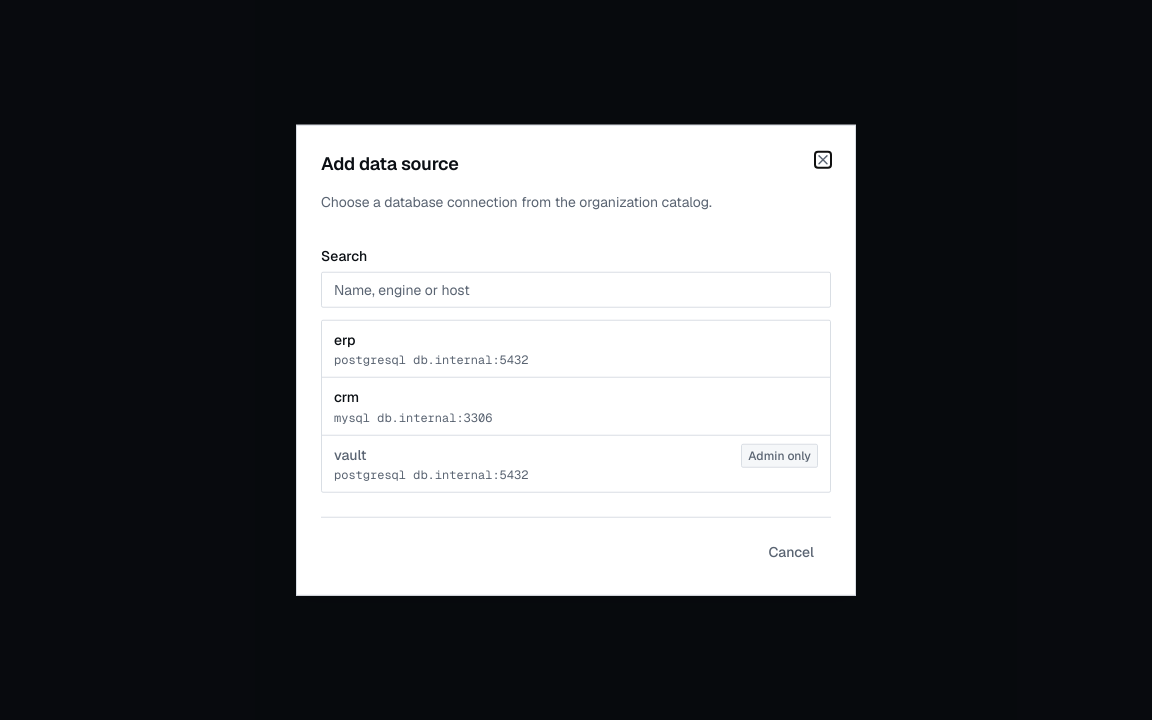
Test case: ScopeDialog › ignores a scope listing that arrives after another connection was chosen
Click the button "erp postgresql db.internal:5432": (370, 360) [322,321,830,378]
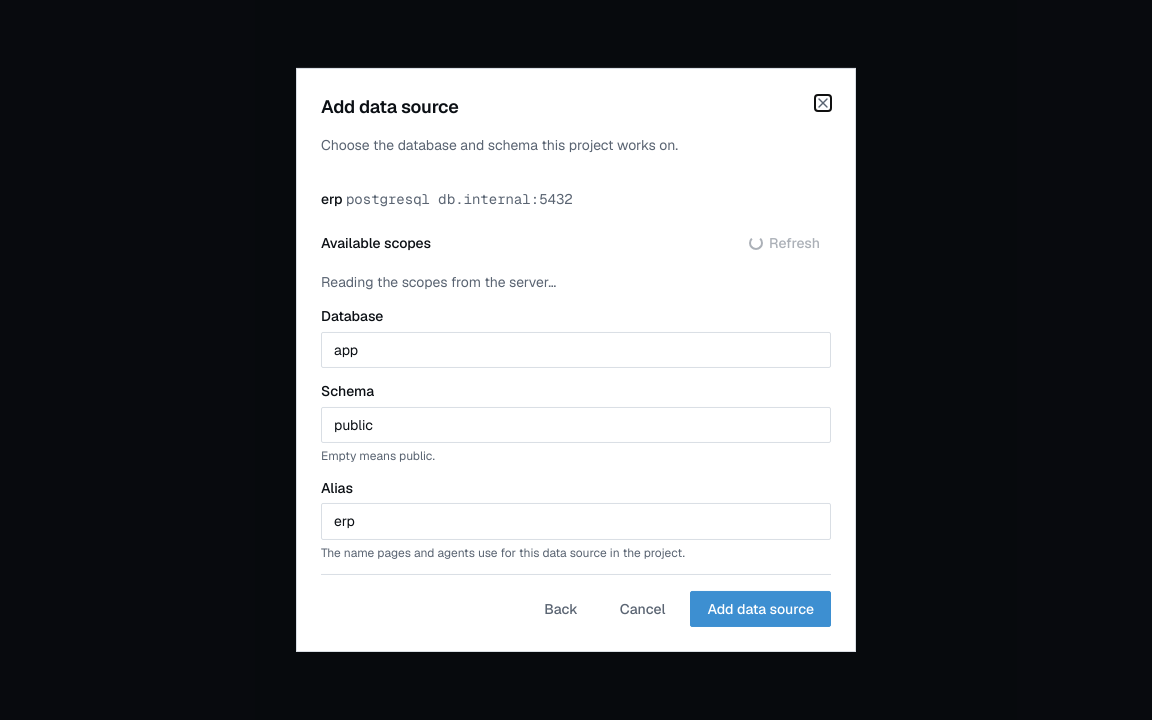
Click the button "Back": (561, 609) [527,591,595,627]
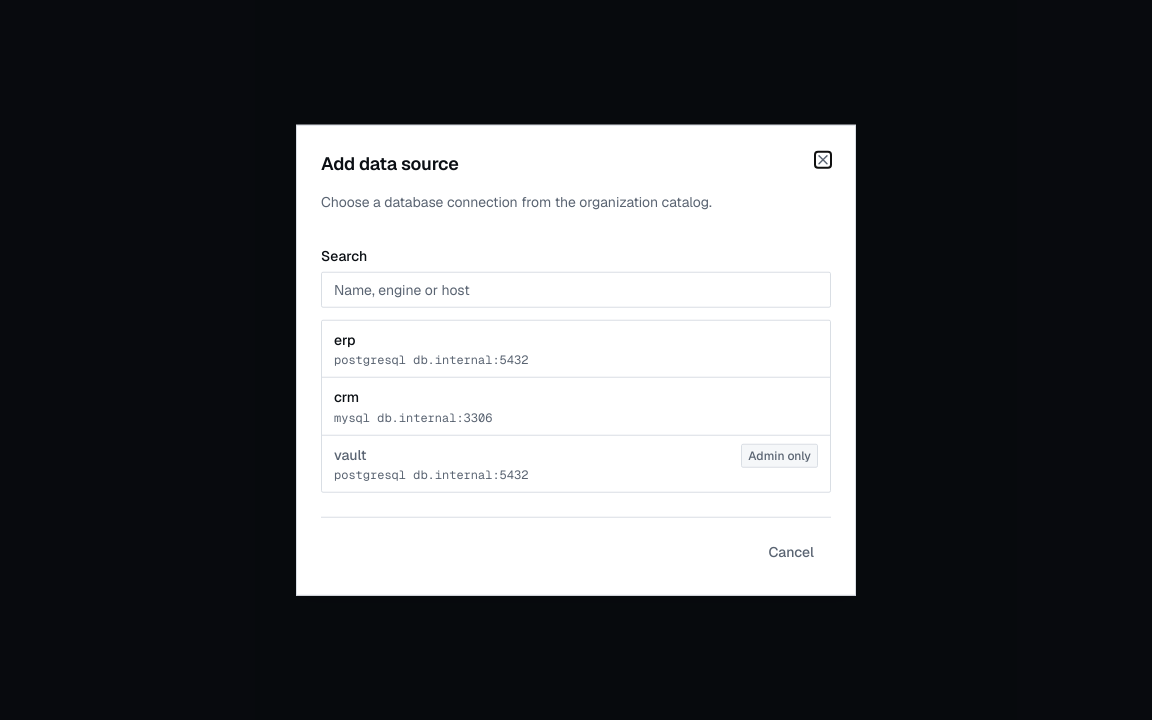
Click the button "crm mysql db.internal:3306": (352, 417) [322,378,830,436]
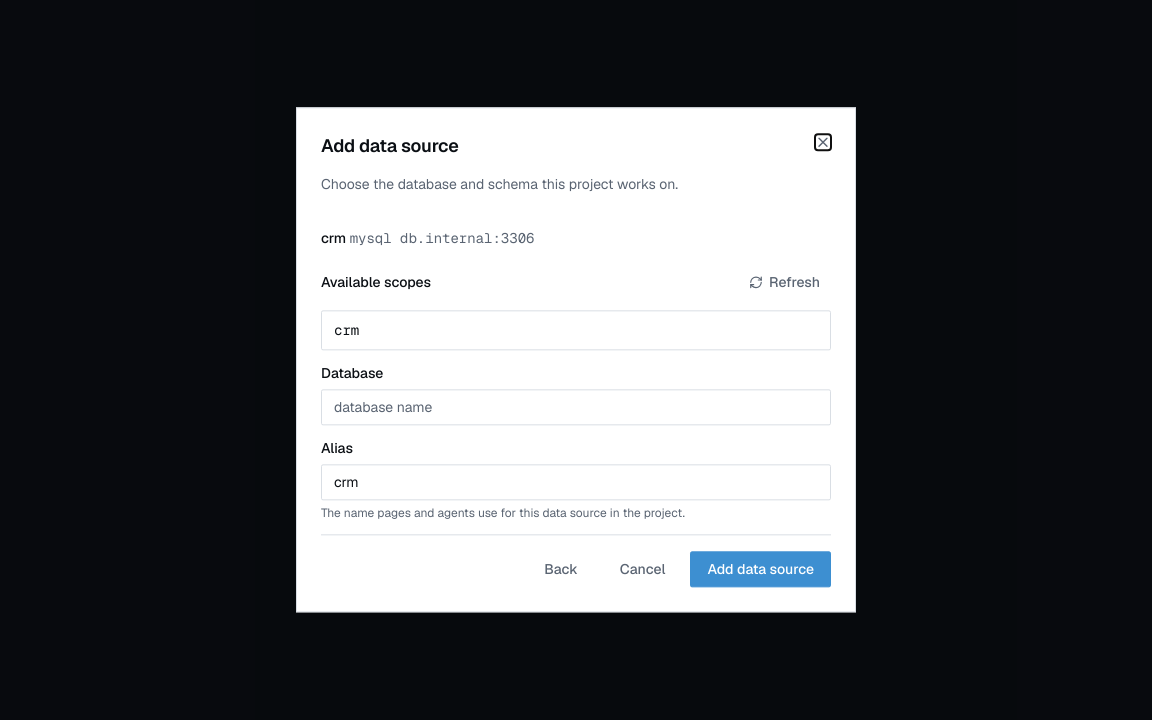
Check: the button "crm" is shown, box [322,311,830,350]
